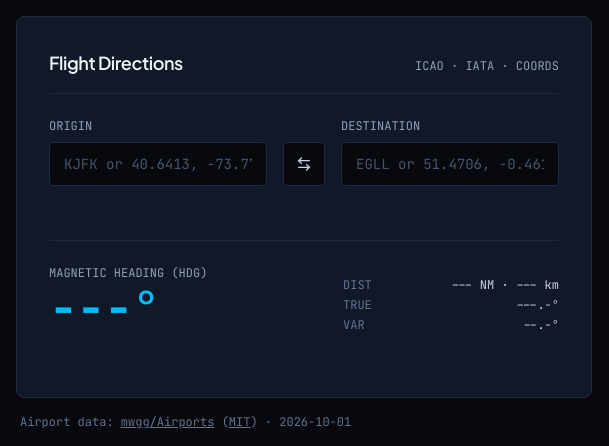
Test: App › invalid location input › does not mark a loading airport code that is found after leaving the field
The image size is (609, 446).
Type "KJFK" into the field labelled "ORIGIN" at (158, 164), box [49, 142, 267, 186]
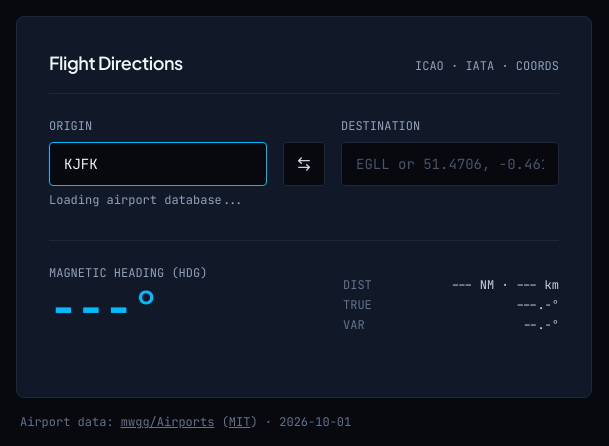
Press Tab
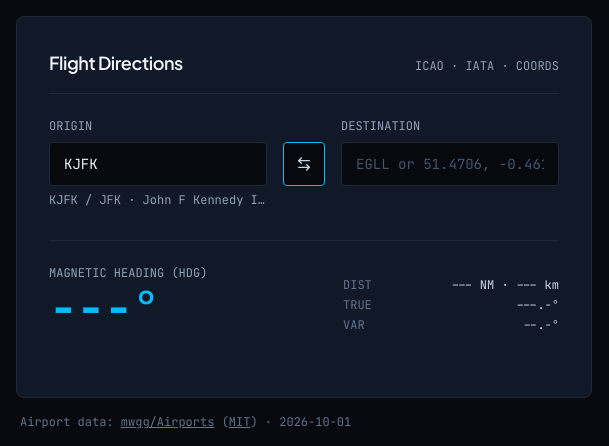
Result: the text "KJFK / JFK · John F Kennedy International Airport" is shown at [49, 192, 267, 208]
